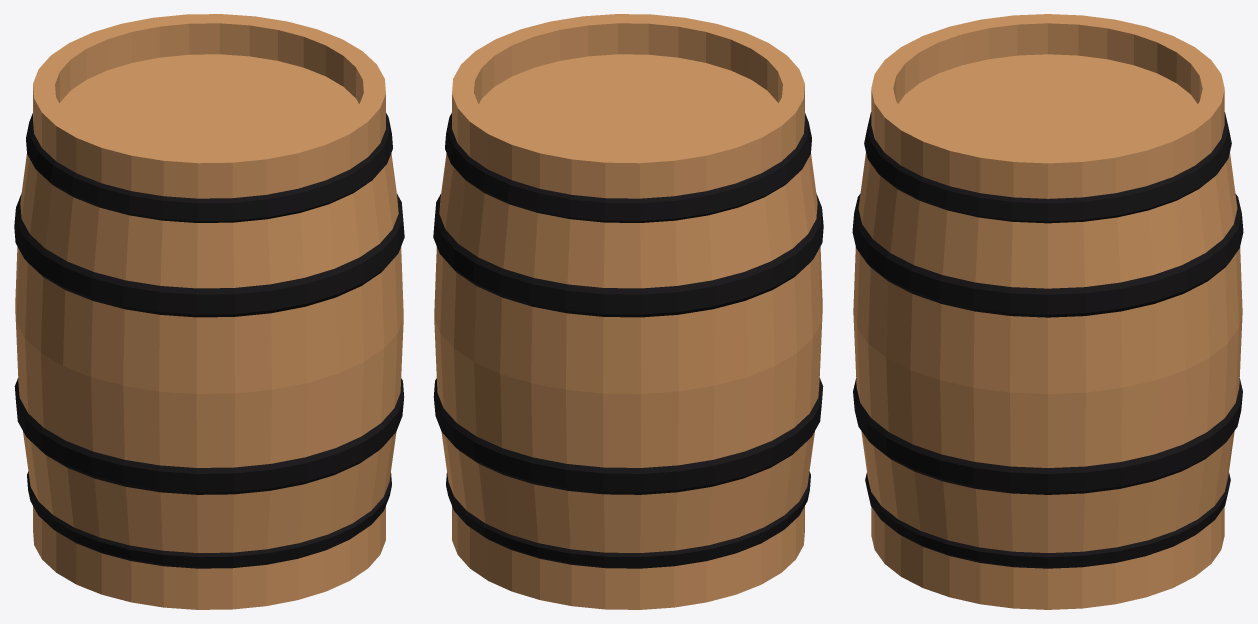
File: Barrel.fbx
3 renders of one model, left to right at view 1: azimuth 30°, elevation 25°; view 2: azimuth 150°, elevation 25°; view 3: azimuth 270°, elevation 25°, orthographic.
Parts seen in each view (by area): view 1: Barrel; view 2: Barrel; view 3: Barrel.
Part boxes in pixels (x1=…): Barrel: x1=14, y1=14, x2=404, y2=609; Barrel: x1=433, y1=14, x2=823, y2=609; Barrel: x1=852, y1=14, x2=1243, y2=609.
Bounding box in the file's own units: 16.84 × 21.21 × 16.84.
